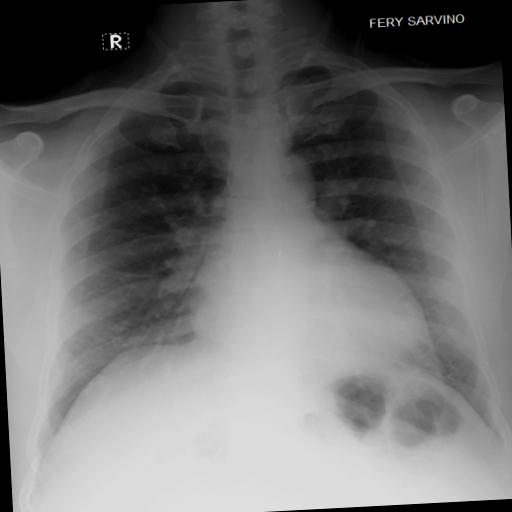kardiomegali: (0, 29, 512, 468)
